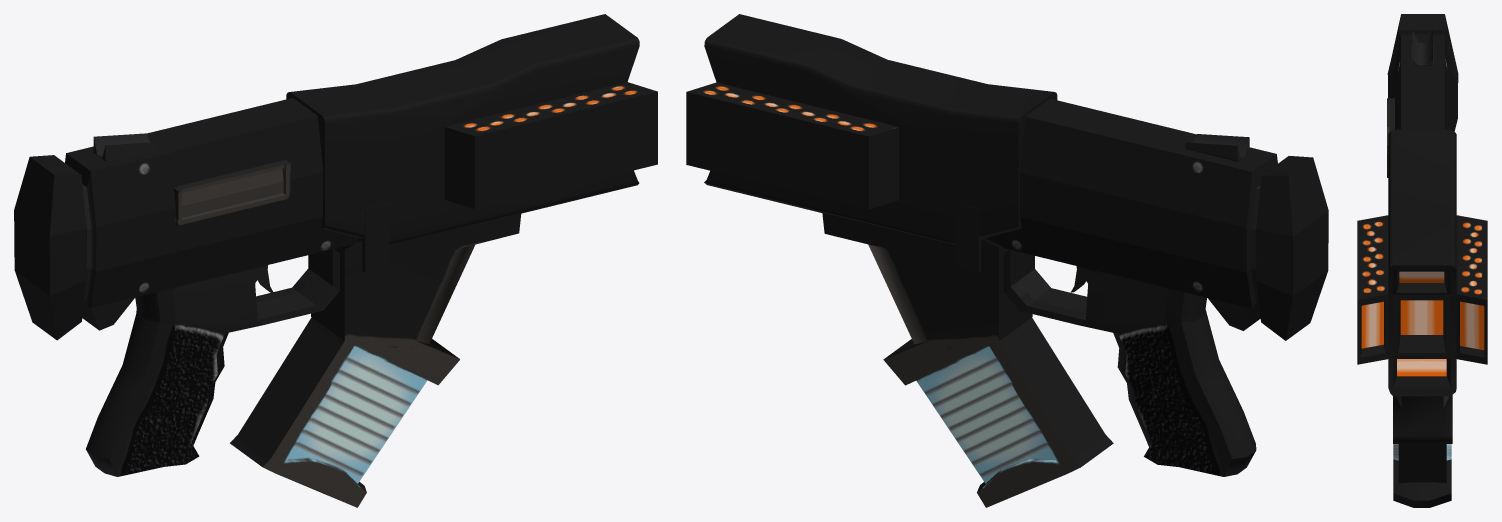
Rendered from Genepool_Shotgun.fbx.
3 renders of one model, left to right at view 1: azimuth 30°, elevation 25°; view 2: azimuth 150°, elevation 25°; view 3: azimuth 270°, elevation 25°, orthographic. The views are drawn at different scales.
Visible parts, largest first — view 1: polySurface45; view 2: polySurface45; view 3: polySurface45.
Part boxes in pixels (x1,y1,x2,y2): polySurface45: [14, 14, 657, 507]; polySurface45: [686, 14, 1328, 507]; polySurface45: [1357, 14, 1487, 507].
Size of the model in its own units: 16.51 by 11.18 by 3.56.
